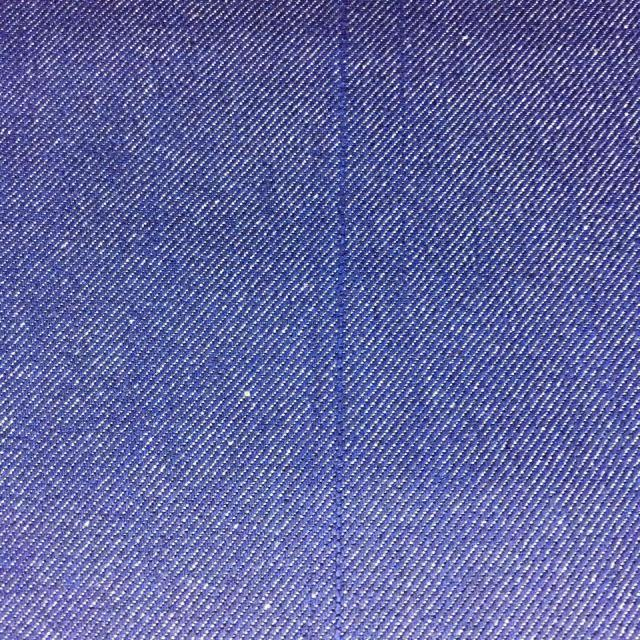Line: (334, 0, 350, 640), (390, 0, 410, 263)
